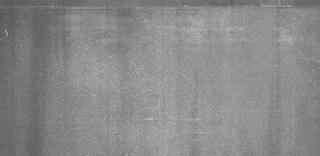welding line: (2, 2, 320, 12)
